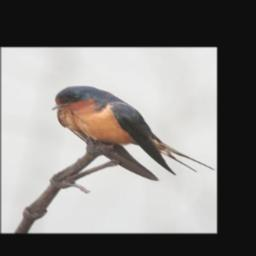Swallow: (50, 84, 213, 180)
